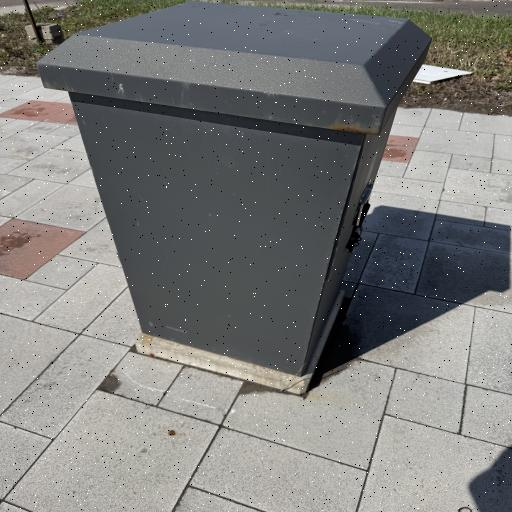Electrical Box: (41, 4, 433, 376)
